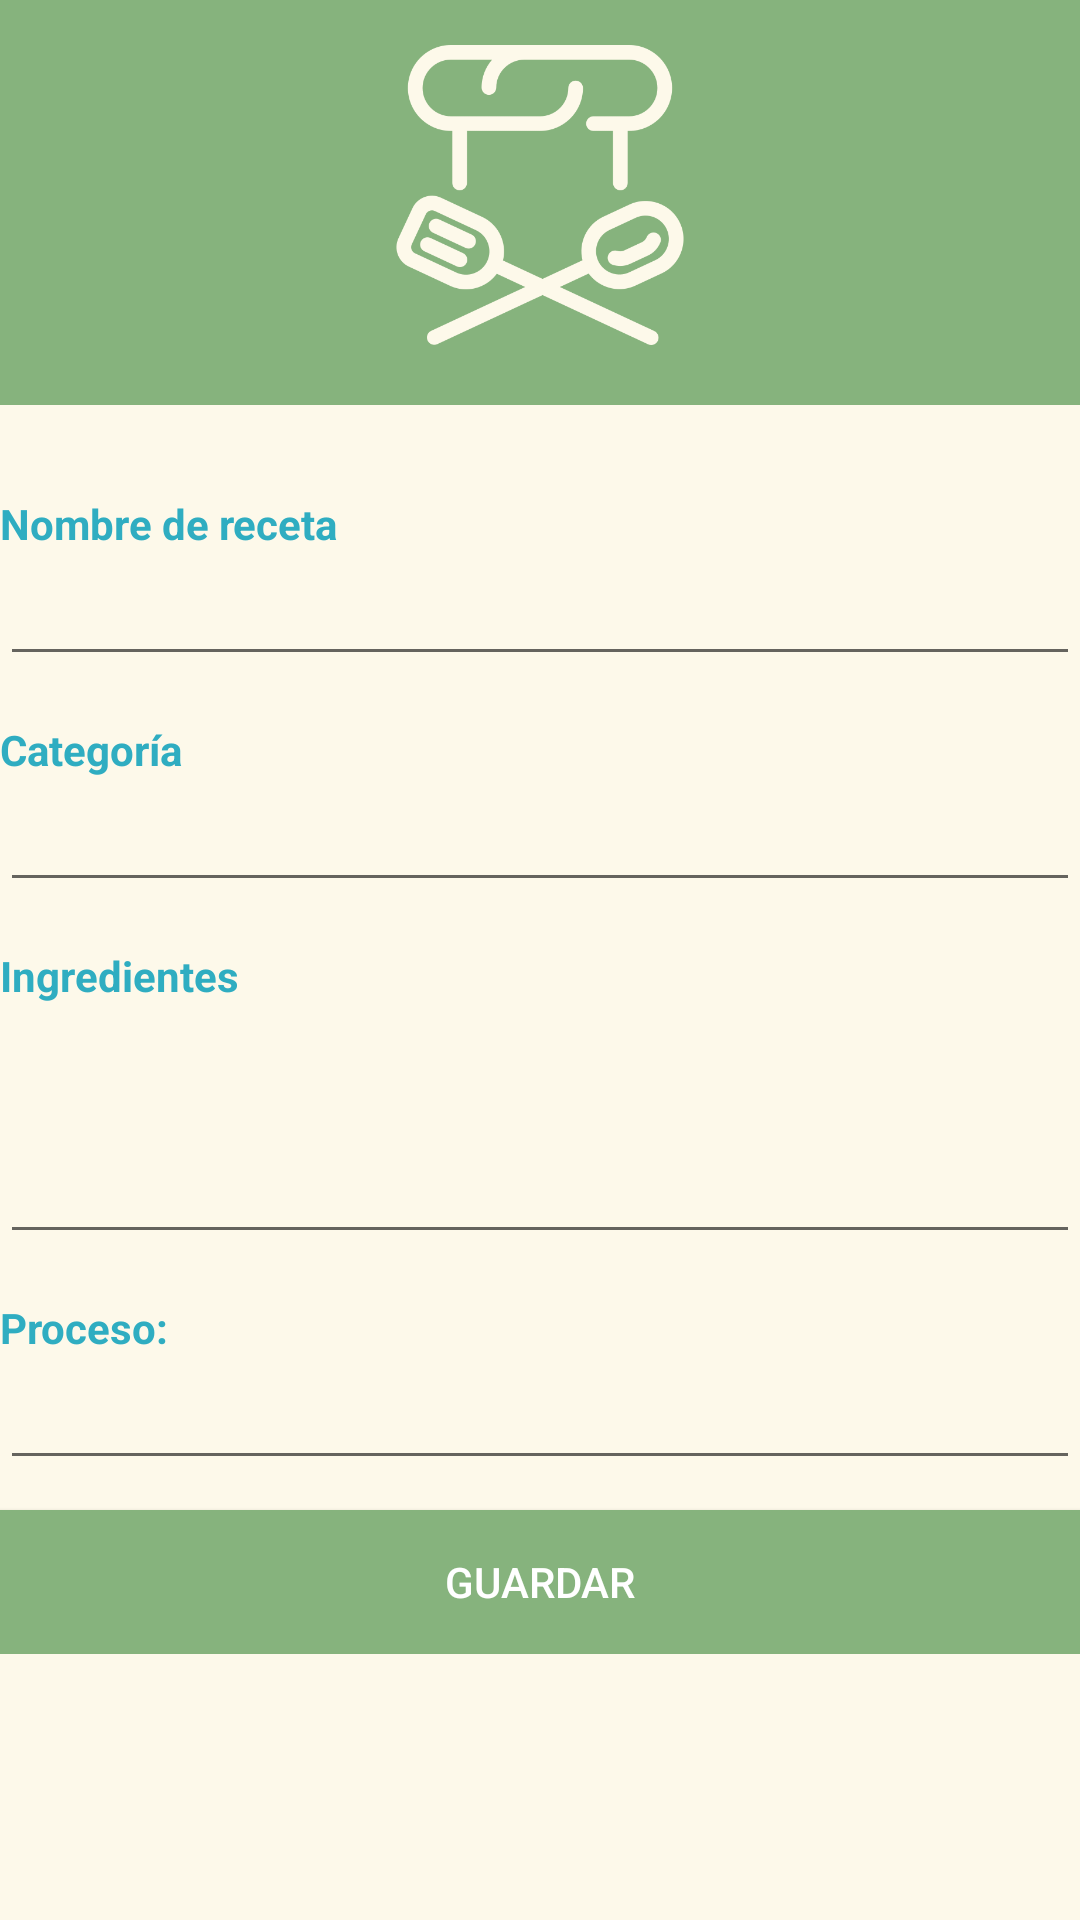

Where icons sit on this 1080 × 1920 app screen, as (x1, y1, x2, y2):
cooker: (396, 45, 684, 345)
